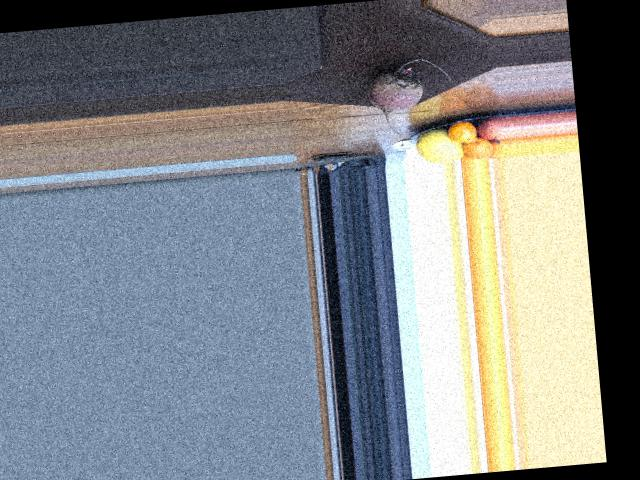beet: (365, 56, 455, 136)
